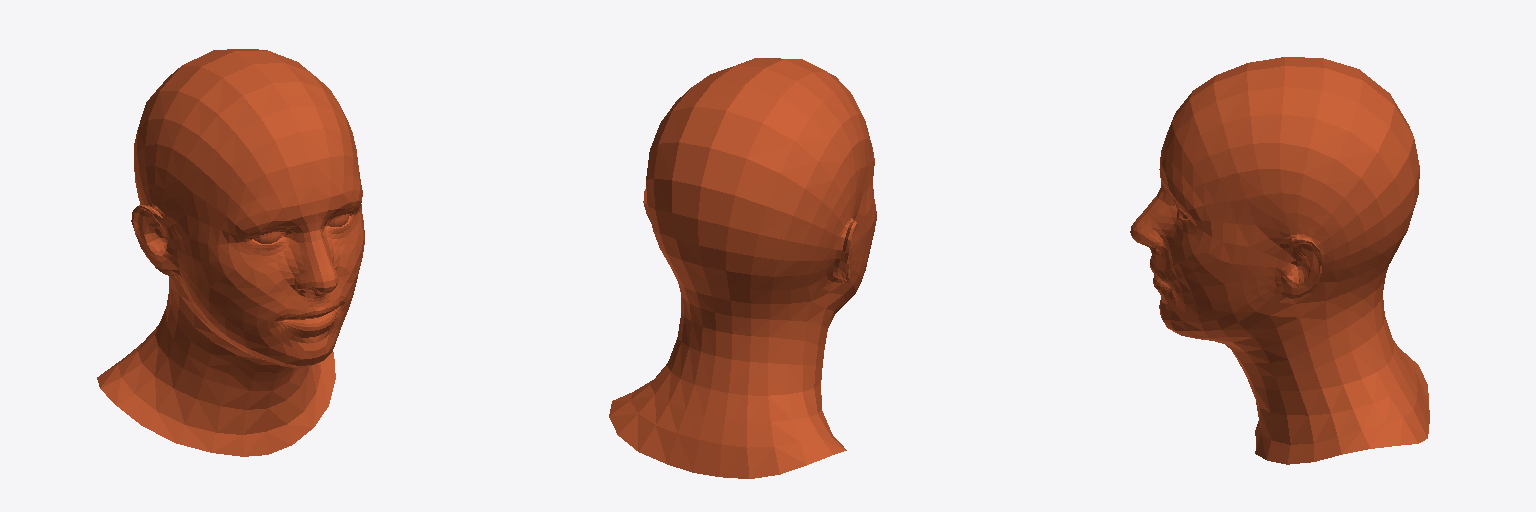
The model's file is Head.obj.
3 views of the same model, side by side, from view 1: azimuth 30°, elevation 25°; view 2: azimuth 150°, elevation 25°; view 3: azimuth 270°, elevation 25° (orthographic).
Parts seen in each view (by area): view 1: FBHead; view 2: FBHead; view 3: FBHead.
Boxes of the visible parts, x1,y1,x2,y2 form: FBHead: [97, 49, 364, 456]; FBHead: [609, 58, 876, 478]; FBHead: [1130, 57, 1429, 464].
Bounding box in the file's own units: 1.9 × 3.12 × 2.23.